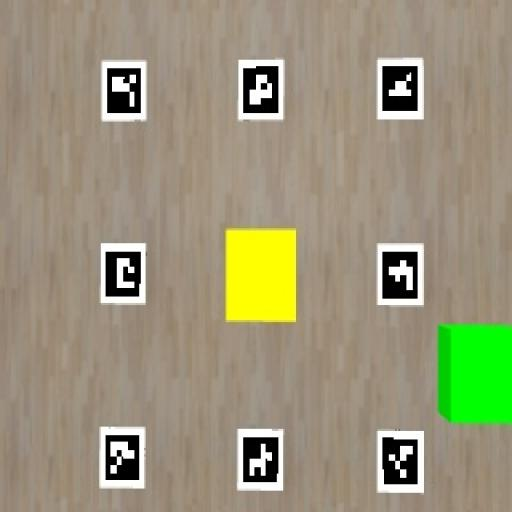car: (439, 325, 511, 424)
fire: (226, 229, 297, 324)
